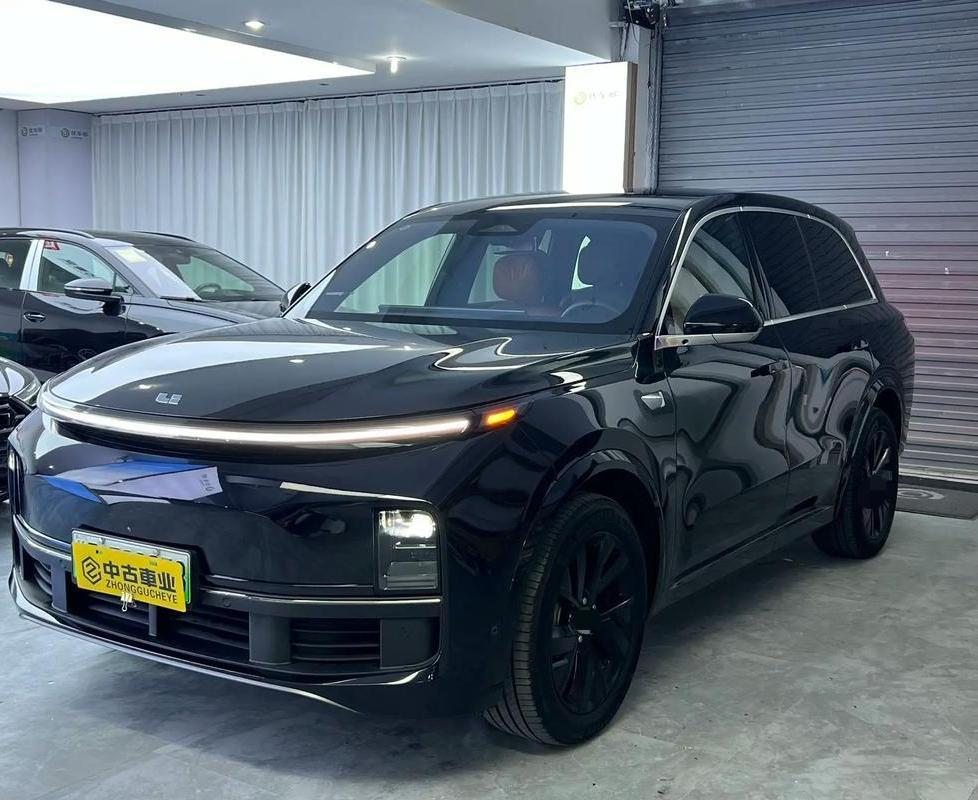Li Auto: (154, 391, 182, 407)
